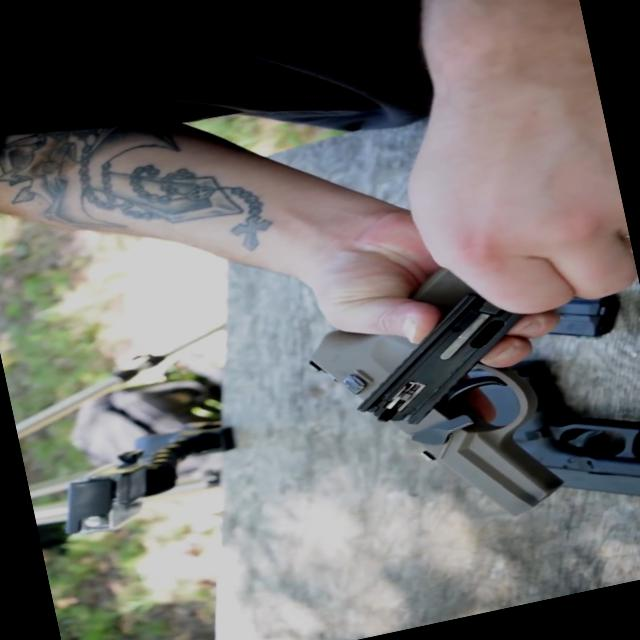handgun: (270, 212, 609, 570), (431, 303, 639, 570)
